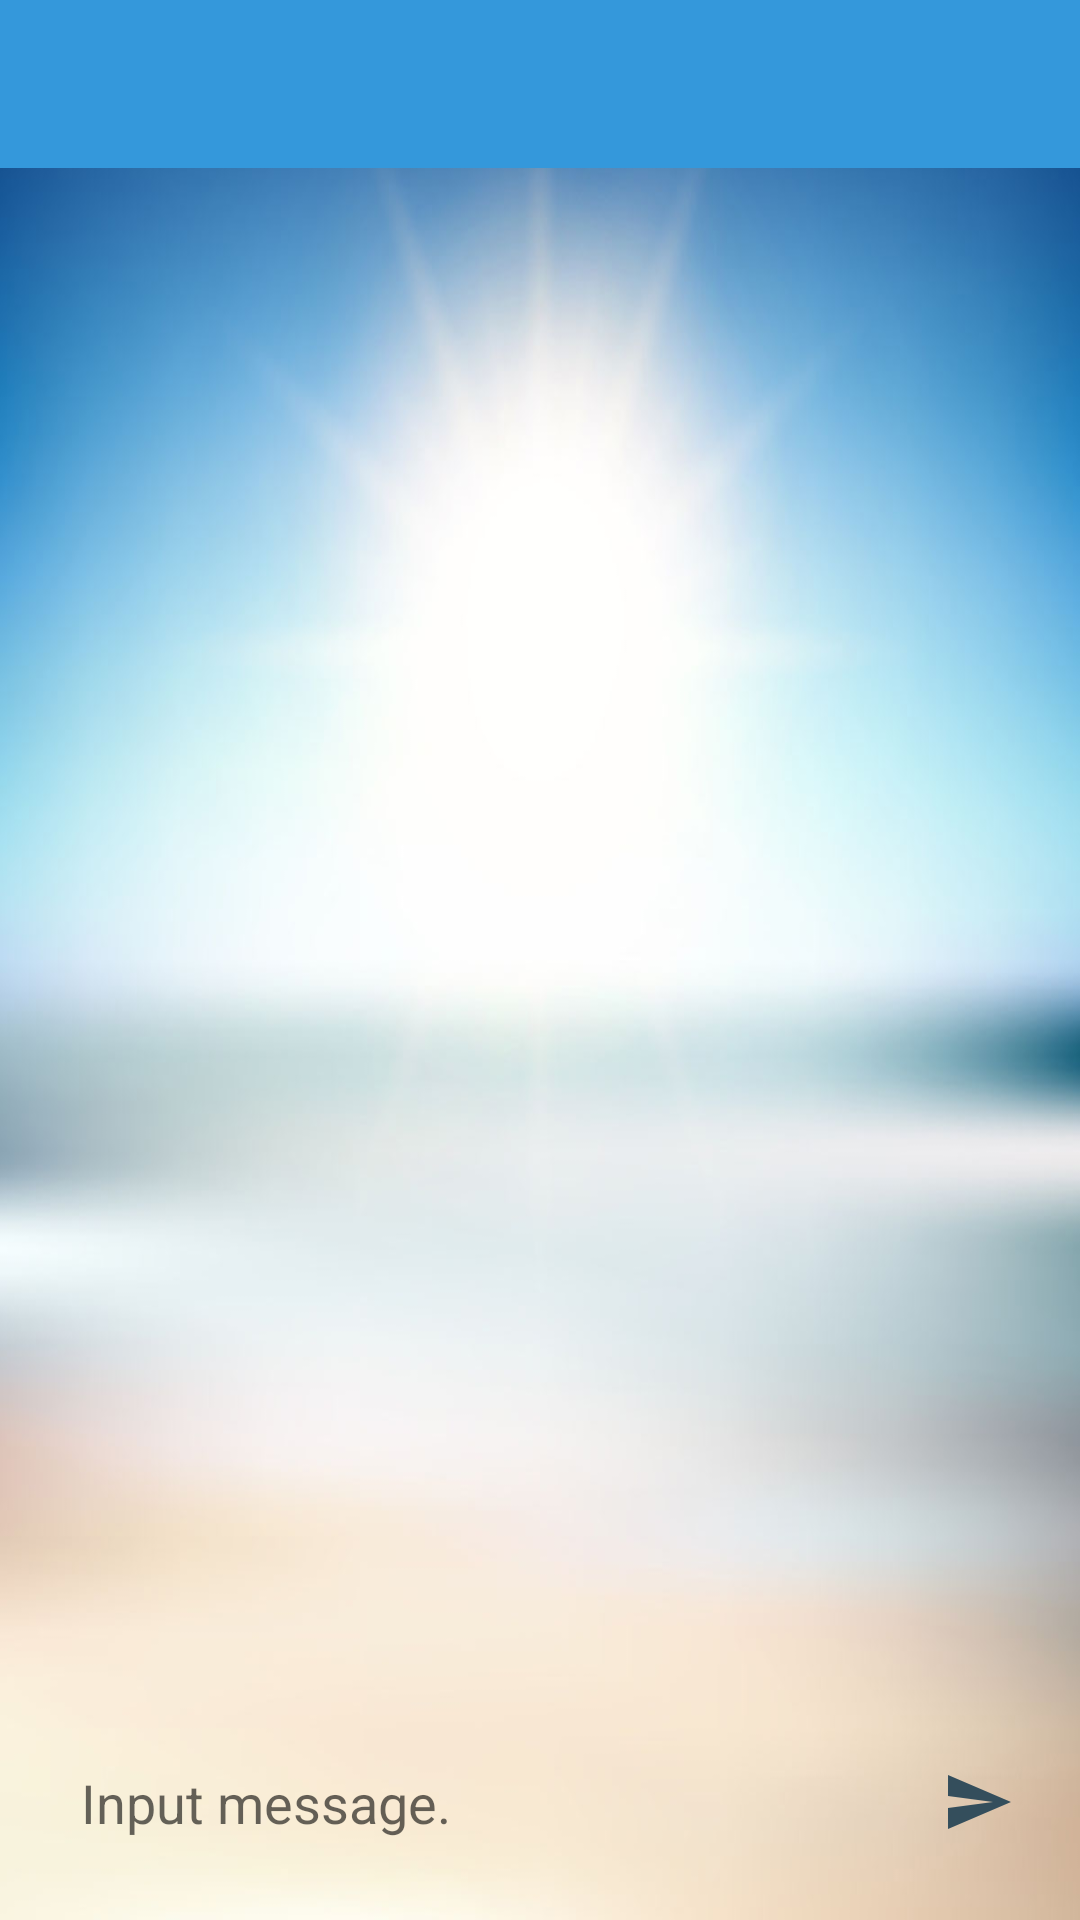

Icon click points for this 1080*1920 phone screenshot, format (x,y):
send: (979,1802)
